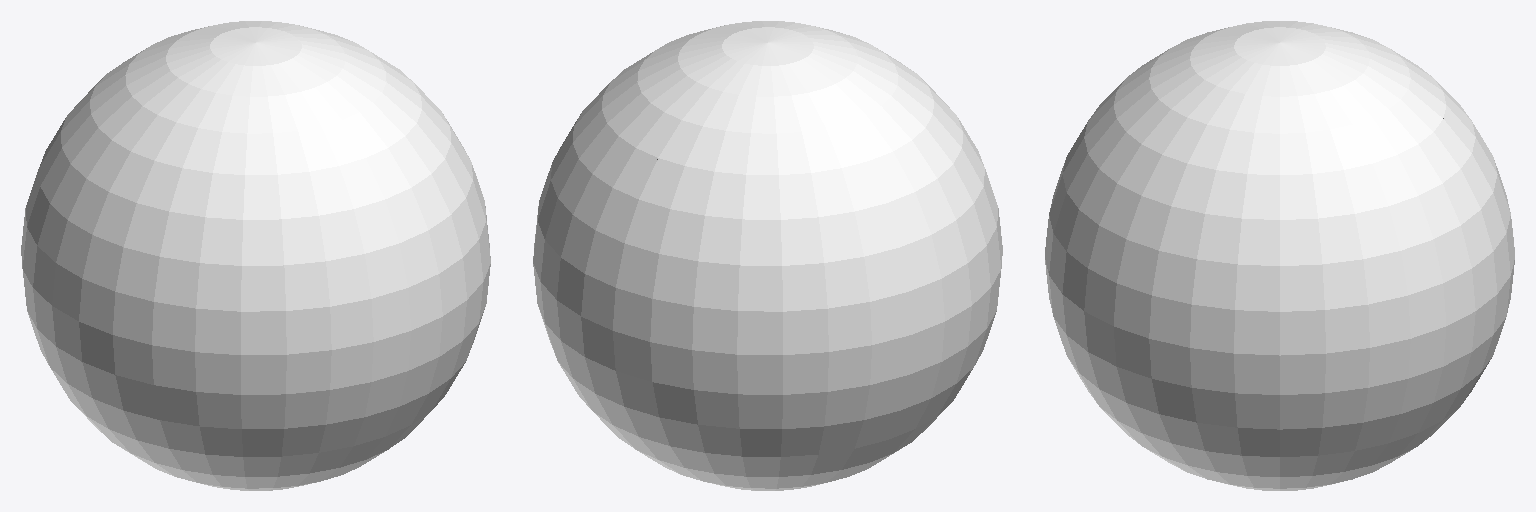
3 renders of one model, left to right at view 1: azimuth 30°, elevation 25°; view 2: azimuth 150°, elevation 25°; view 3: azimuth 270°, elevation 25°, orthographic.
Visible parts, largest first — view 1: 球; view 2: 球; view 3: 球.
Boxes of the visible parts, <box> form: 球: <box>21,21,490,490</box>; 球: <box>533,21,1002,490</box>; 球: <box>1045,21,1514,490</box>.
Size of the model in its own units: 2 by 2 by 2.
Materials: 1 (1 with a texture image).